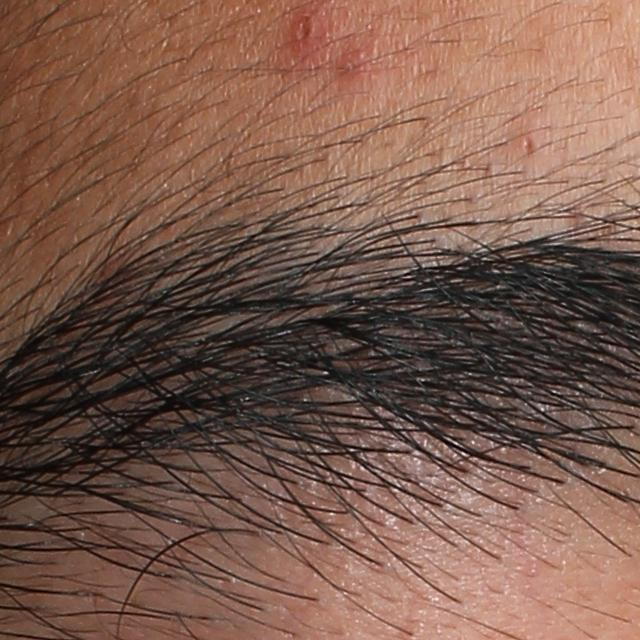papule: (288, 5, 333, 54)
